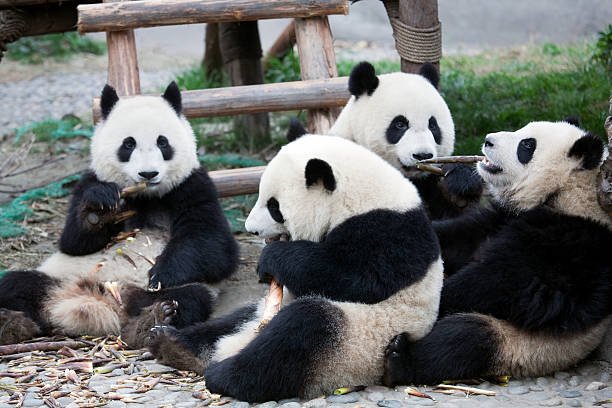panda: (470, 98, 612, 231), (340, 43, 459, 194), (235, 116, 376, 241), (77, 75, 214, 202)
